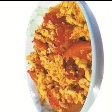fanqiechaojidan: (24, 0, 96, 112)
